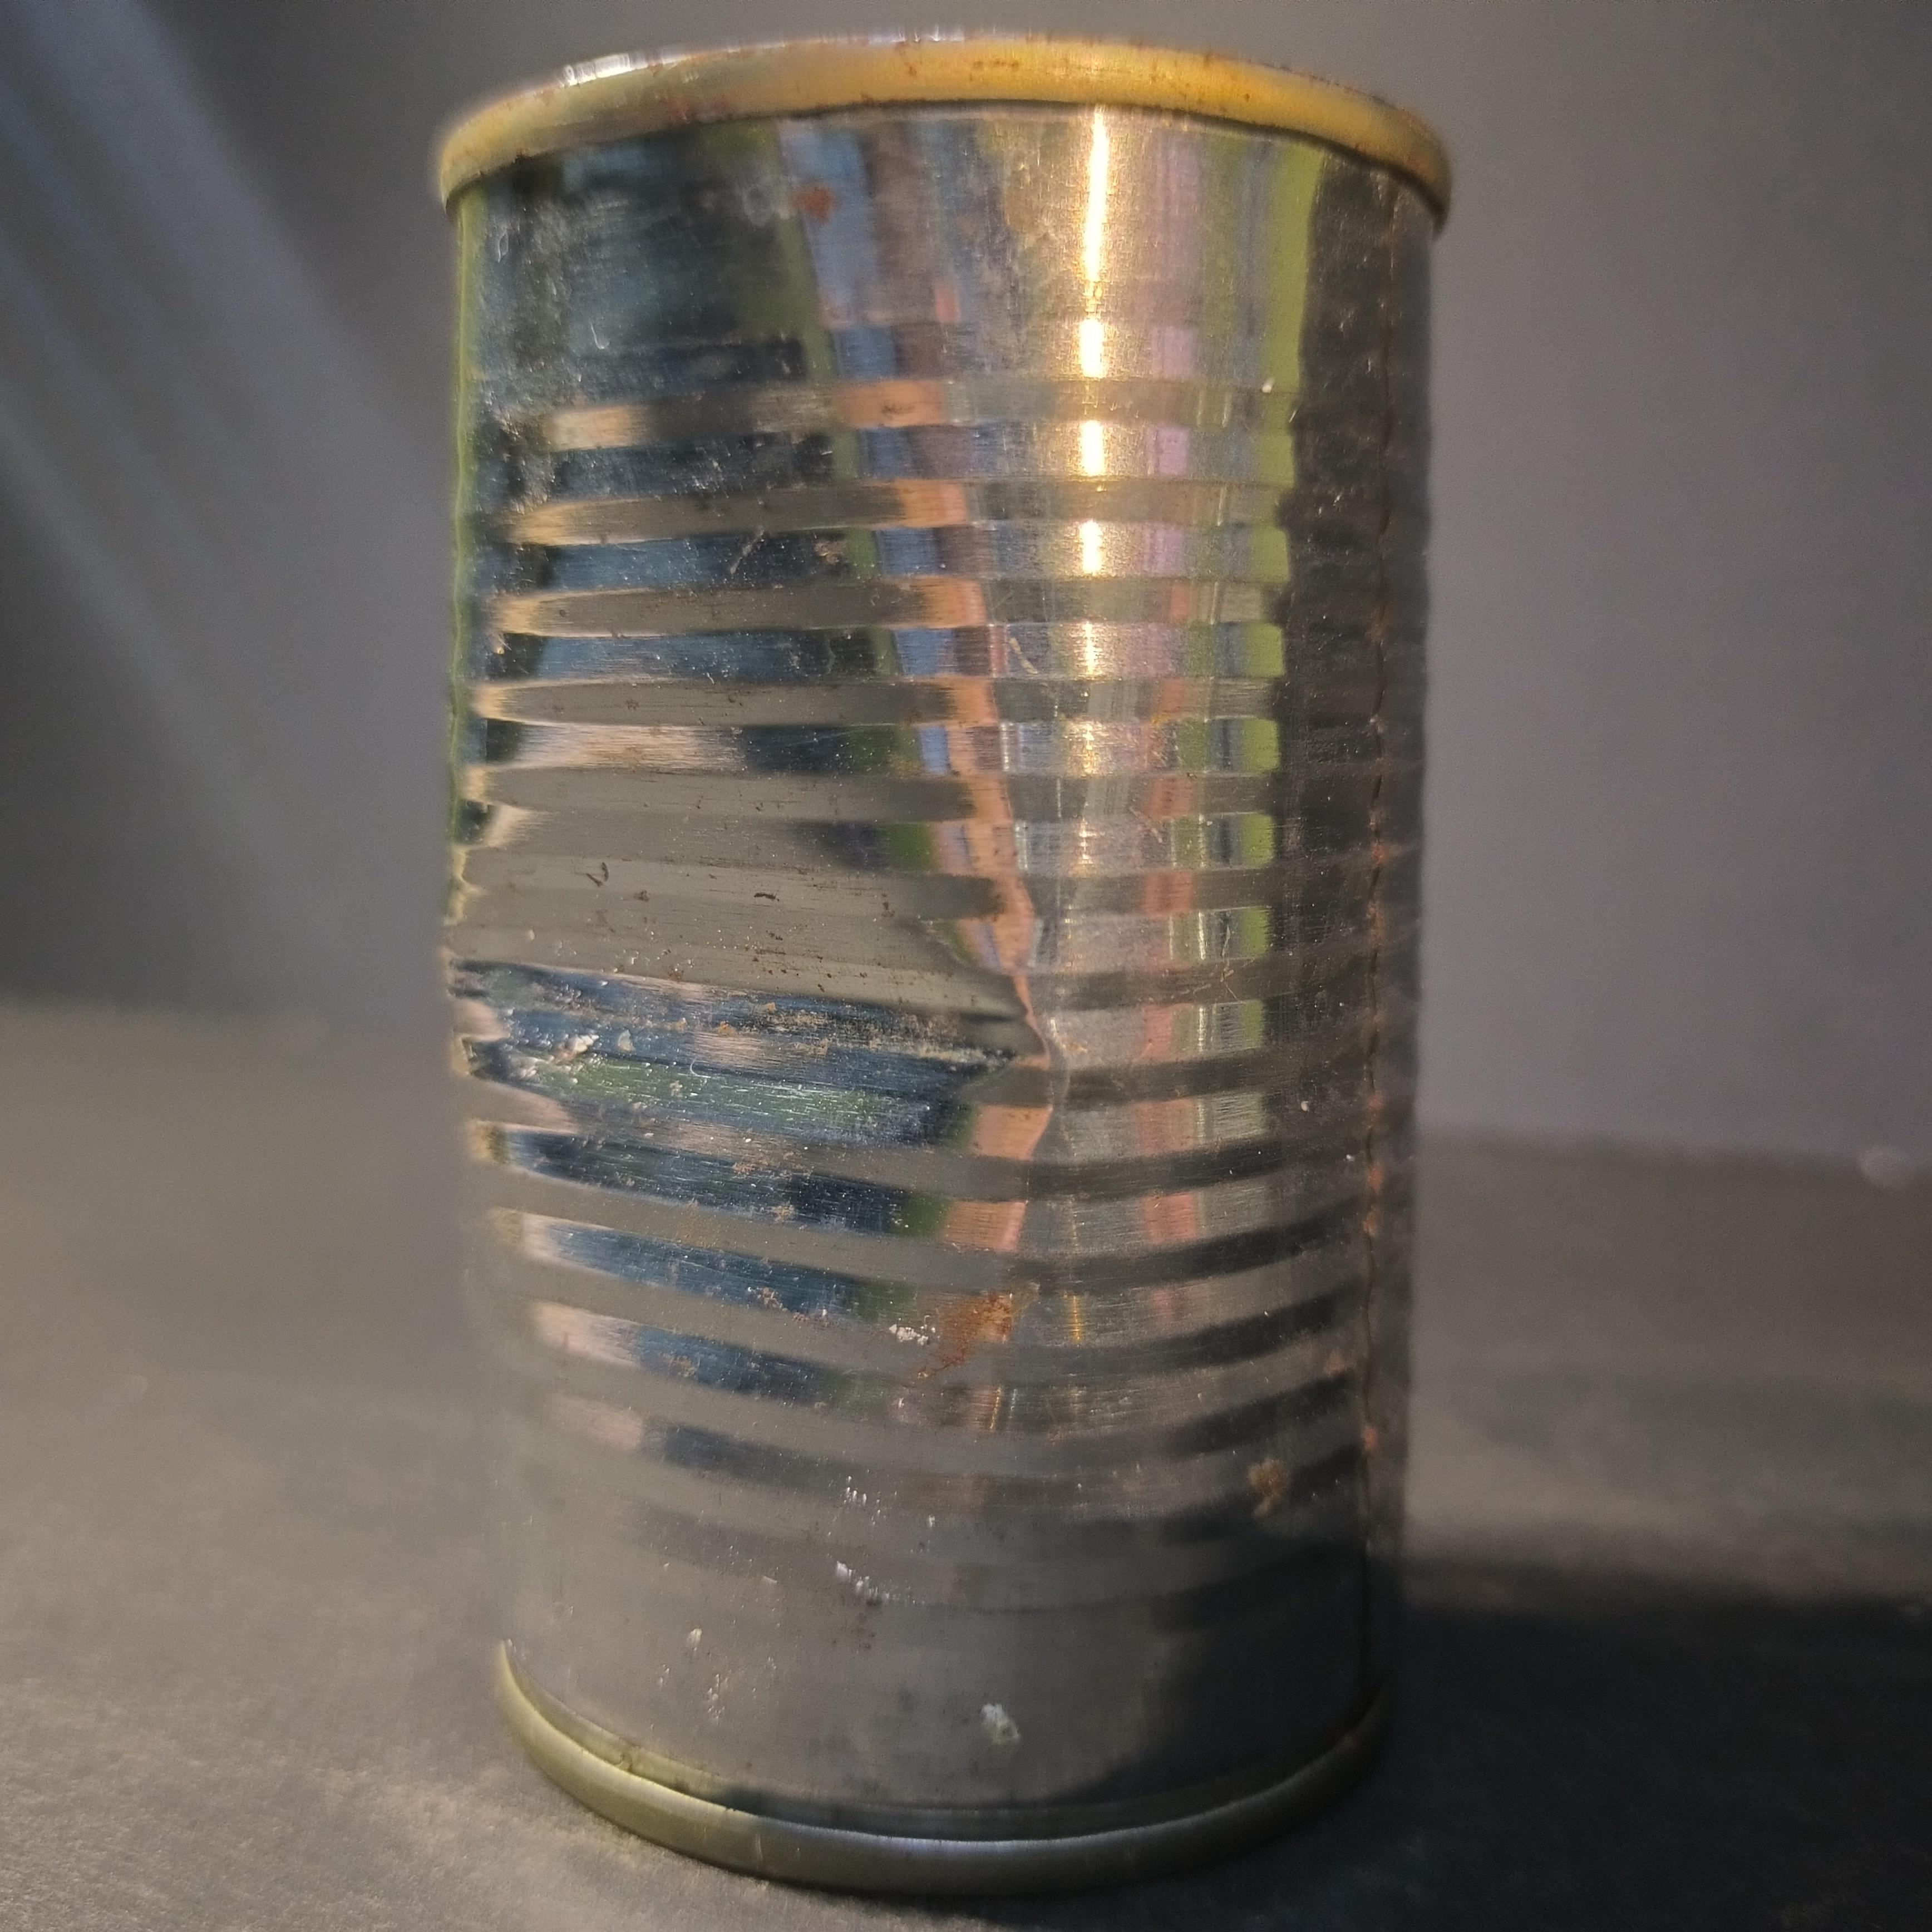Dented: (400, 39, 1502, 1909)
